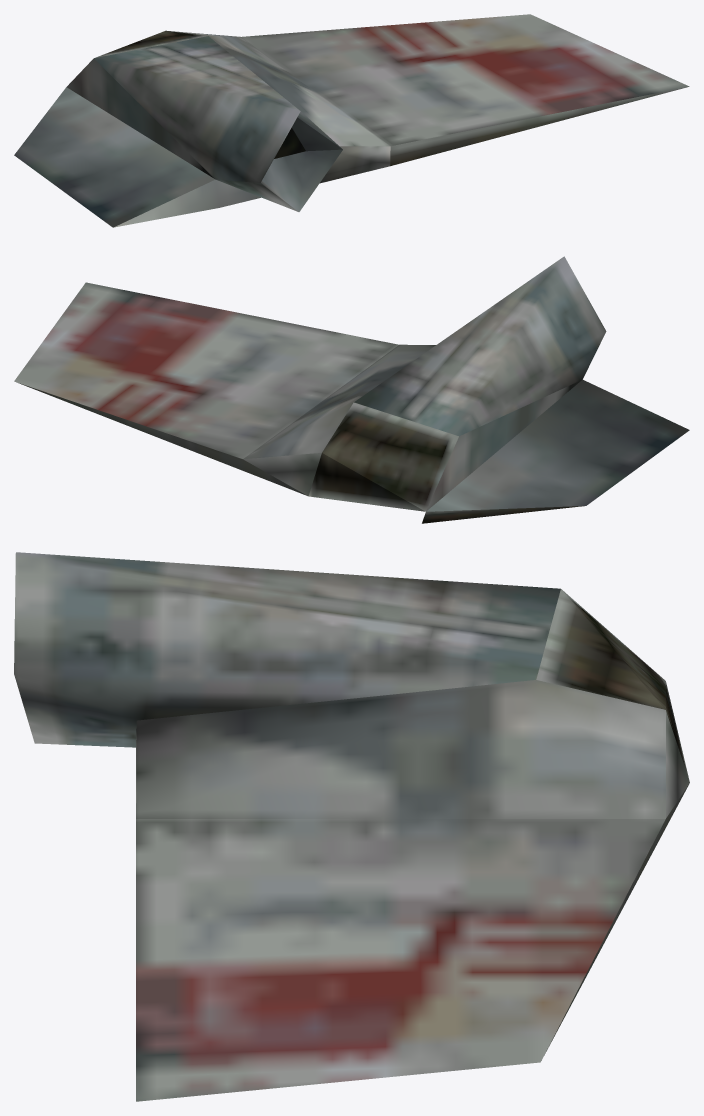
Rendered from xwing_debris_a_l3.fbx.
The picture shows the model from 3 angles, top to bottom: view 1: azimuth 30°, elevation 25°; view 2: azimuth 150°, elevation 25°; view 3: azimuth 270°, elevation 25°; orthographic projection. The views are drawn at different scales.
Visible parts, largest first — view 1: mesh_node; view 2: mesh_node; view 3: mesh_node.
Part boxes in pixels (x1,y1,x2,y2): mesh_node: (14, 14, 689, 227); mesh_node: (14, 256, 689, 523); mesh_node: (14, 552, 689, 1101).
Bounding box in the file's own units: 6.24 × 1.14 × 3.57.
Materials: 1 (1 with a texture image).
